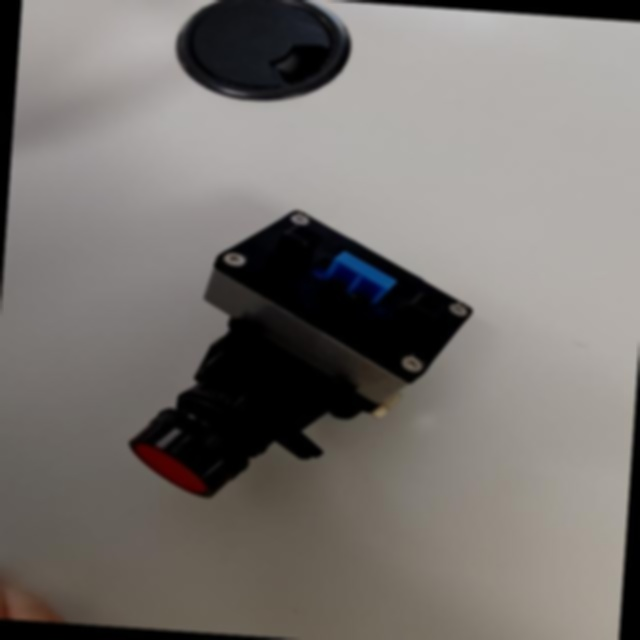push button: (124, 198, 479, 516)
